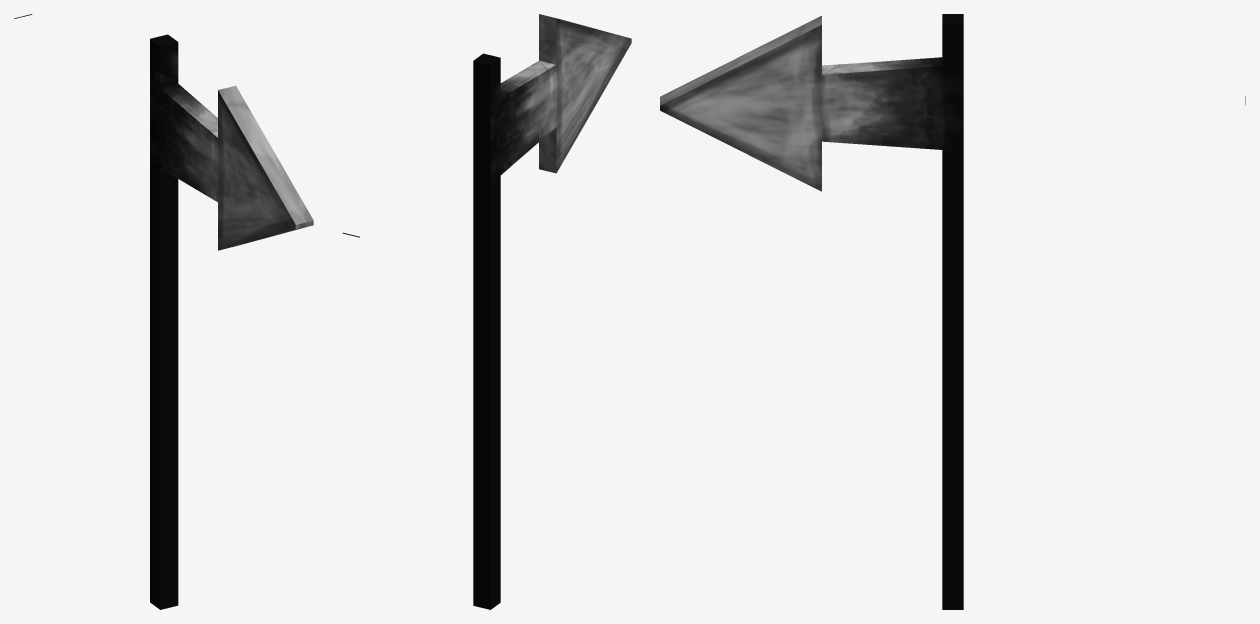
The model's file is signal.obj.
The picture shows the model from 3 angles, left to right: view 1: azimuth 30°, elevation 25°; view 2: azimuth 150°, elevation 25°; view 3: azimuth 270°, elevation 25°; orthographic projection. The views are drawn at different scales.
Parts seen in each view (by area): view 1: Cube; view 2: Cube; view 3: Cube.
Boxes of the visible parts, bbox=[...] form: Cube: bbox=[14, 14, 313, 609]; Cube: bbox=[342, 14, 631, 609]; Cube: bbox=[660, 14, 1245, 609].
Bounding box in the file's own units: 0.2048 × 6 × 5.43.
